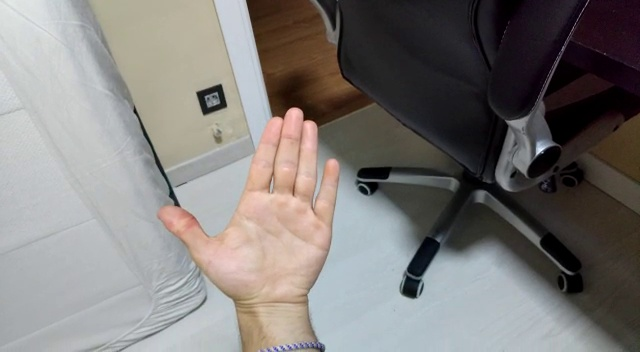Palm: (154, 105, 343, 328)
